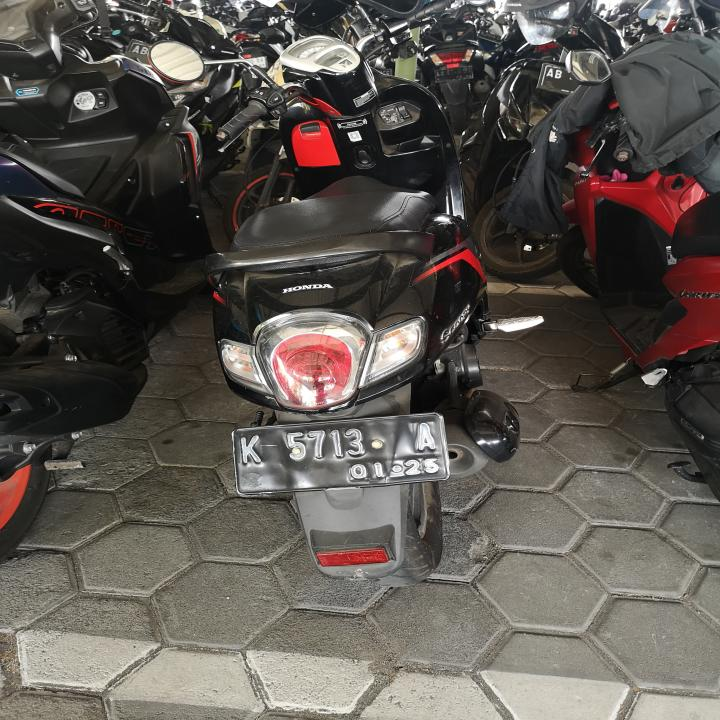plate: (229, 410, 454, 503)
